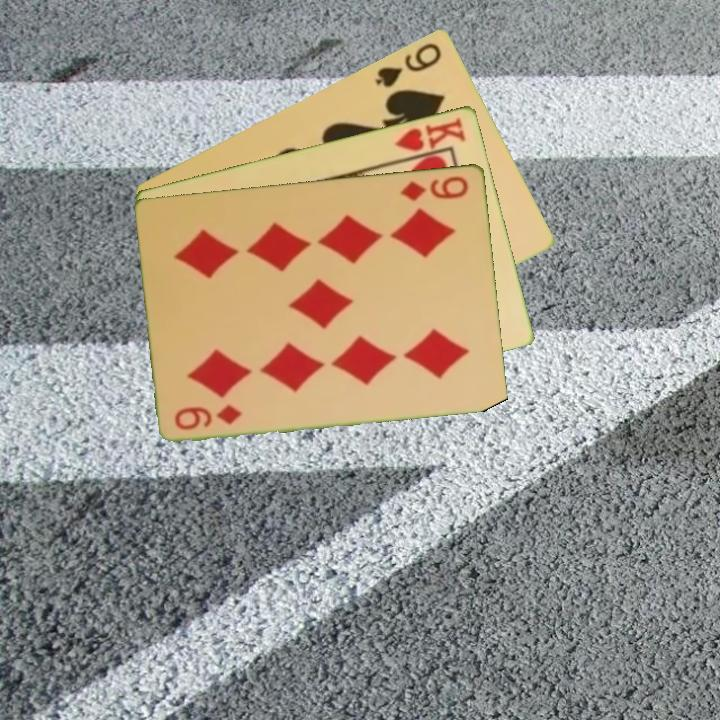9d: (171, 400, 245, 433), (397, 172, 472, 204)
9s: (372, 38, 445, 90)
Kh: (391, 114, 469, 163)
